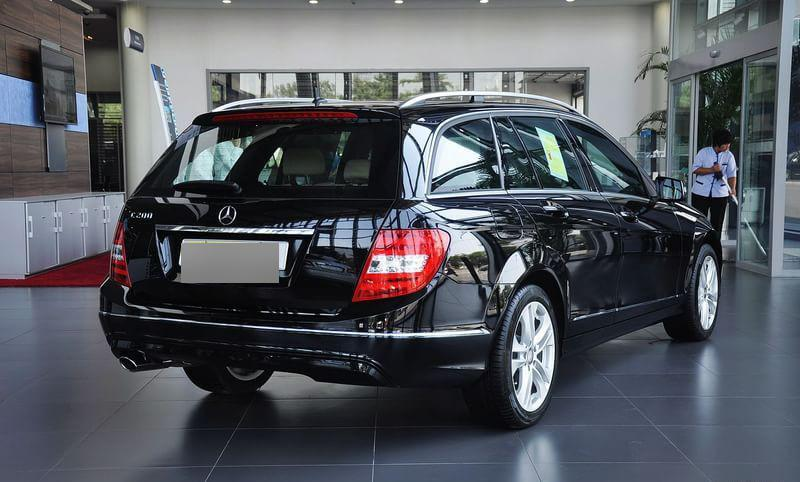Wagon: (98, 90, 724, 431)
